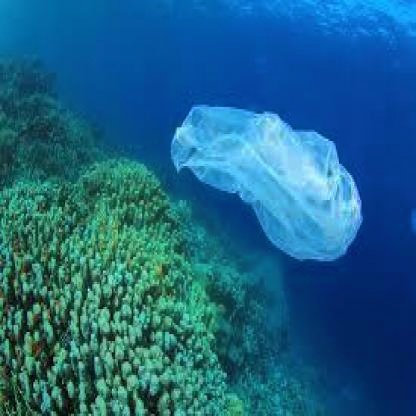pbag: (165, 91, 366, 273)
